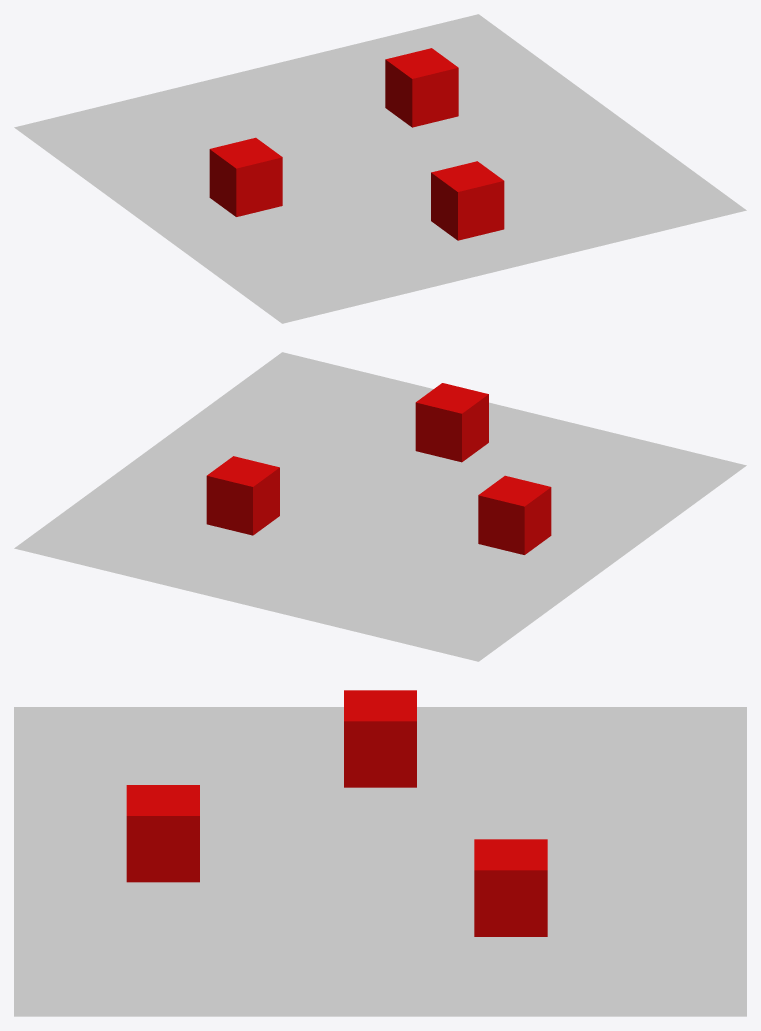
3 views of the same model, one above another, from view 1: azimuth 30°, elevation 25°; view 2: azimuth 150°, elevation 25°; view 3: azimuth 270°, elevation 25° (orthographic). The views are drawn at different scales.
Parts seen in each view (by area): view 1: f, a, d, s; view 2: f, s, d, a; view 3: f, a, s, d.
Part boxes in pixels (box(x1,y1,x2,y2)): f: box(14, 14, 746, 323); a: box(385, 48, 458, 127); d: box(209, 137, 282, 216); s: box(431, 161, 504, 240); f: box(14, 352, 746, 661); s: box(415, 383, 488, 462); d: box(478, 475, 551, 554); a: box(206, 456, 279, 535); f: box(14, 707, 746, 1016); a: box(474, 839, 547, 936); s: box(126, 785, 199, 882); d: box(344, 690, 416, 787).
Bounding box in the file's own units: 10 × 1 × 10.
